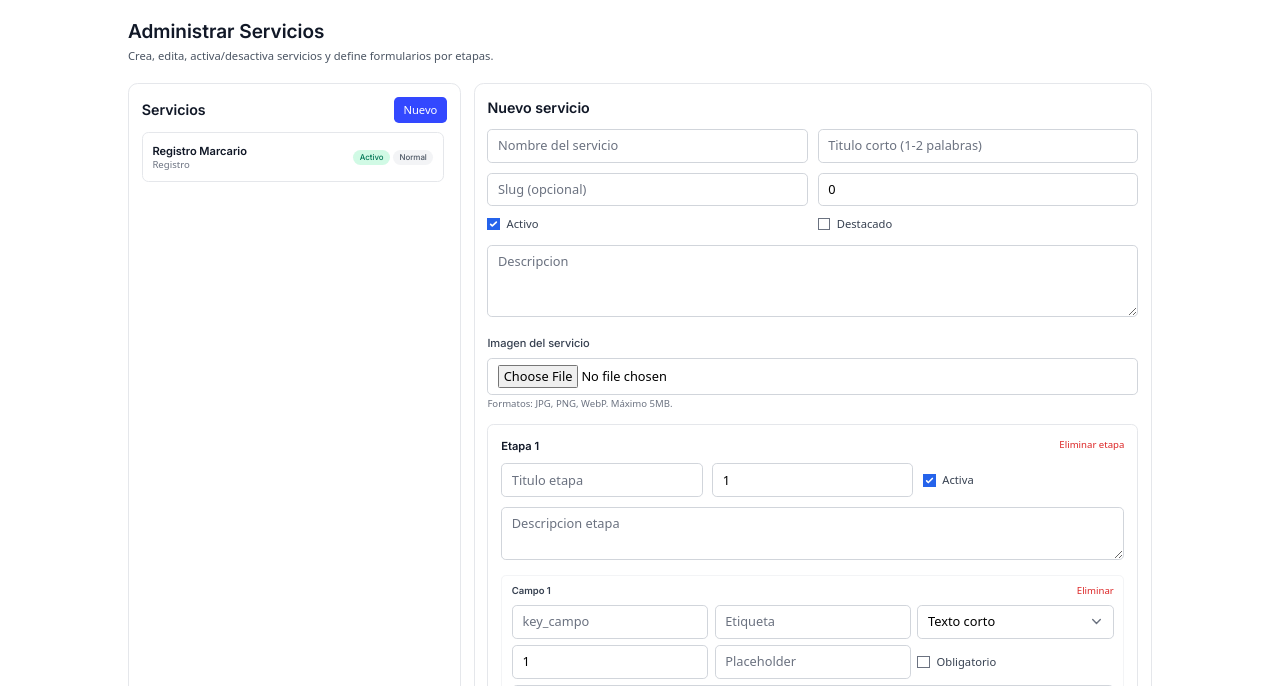
Test case: ServicesAdmin.vue › editService populates editor with service data
Click the button "Registro Marcario Registro Activo Normal".
click(200, 151)  # box [142, 132, 444, 182]
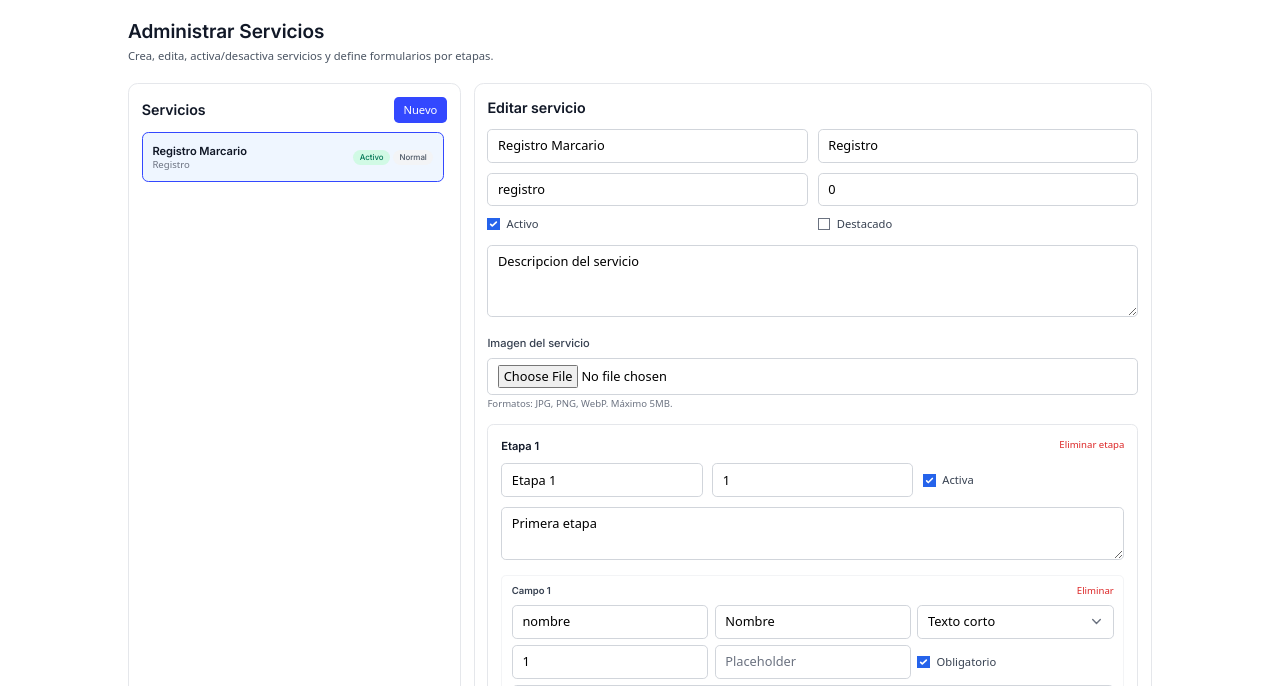
Expected: the 1st field with placeholder "Nombre del servicio" holds "Registro Marcario", [487, 129, 808, 163]
